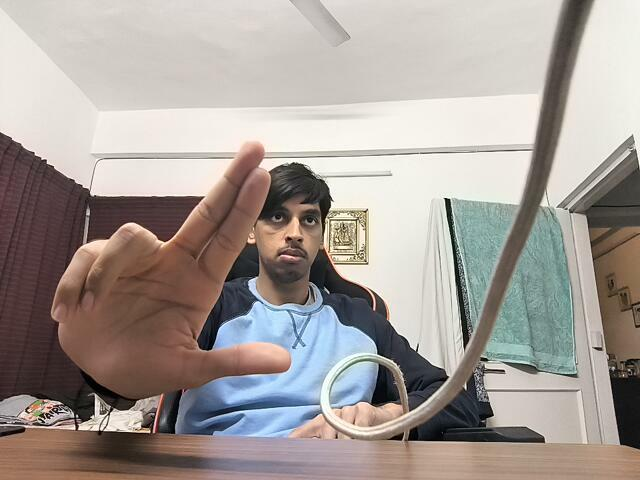FORWARD: (47, 141, 298, 409)
